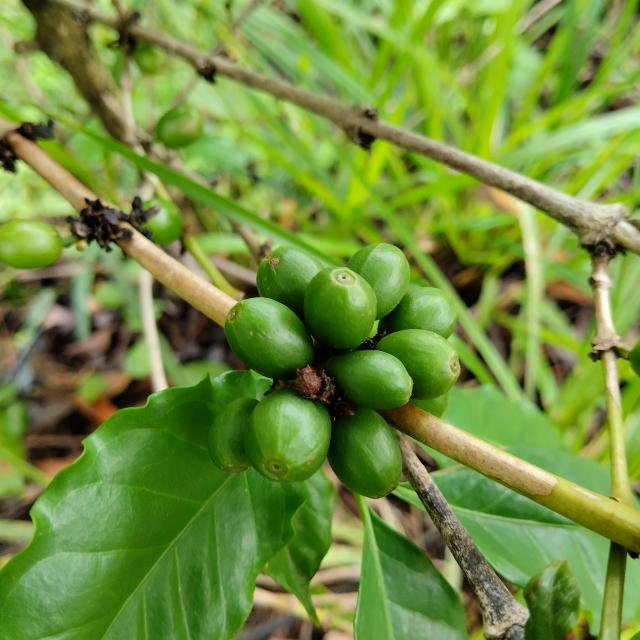green: (244, 389, 331, 482), (224, 297, 314, 380), (327, 408, 402, 499), (304, 267, 377, 350), (377, 329, 461, 400), (325, 350, 414, 410), (256, 246, 323, 320), (347, 243, 410, 319), (208, 398, 258, 473), (386, 287, 458, 339)
